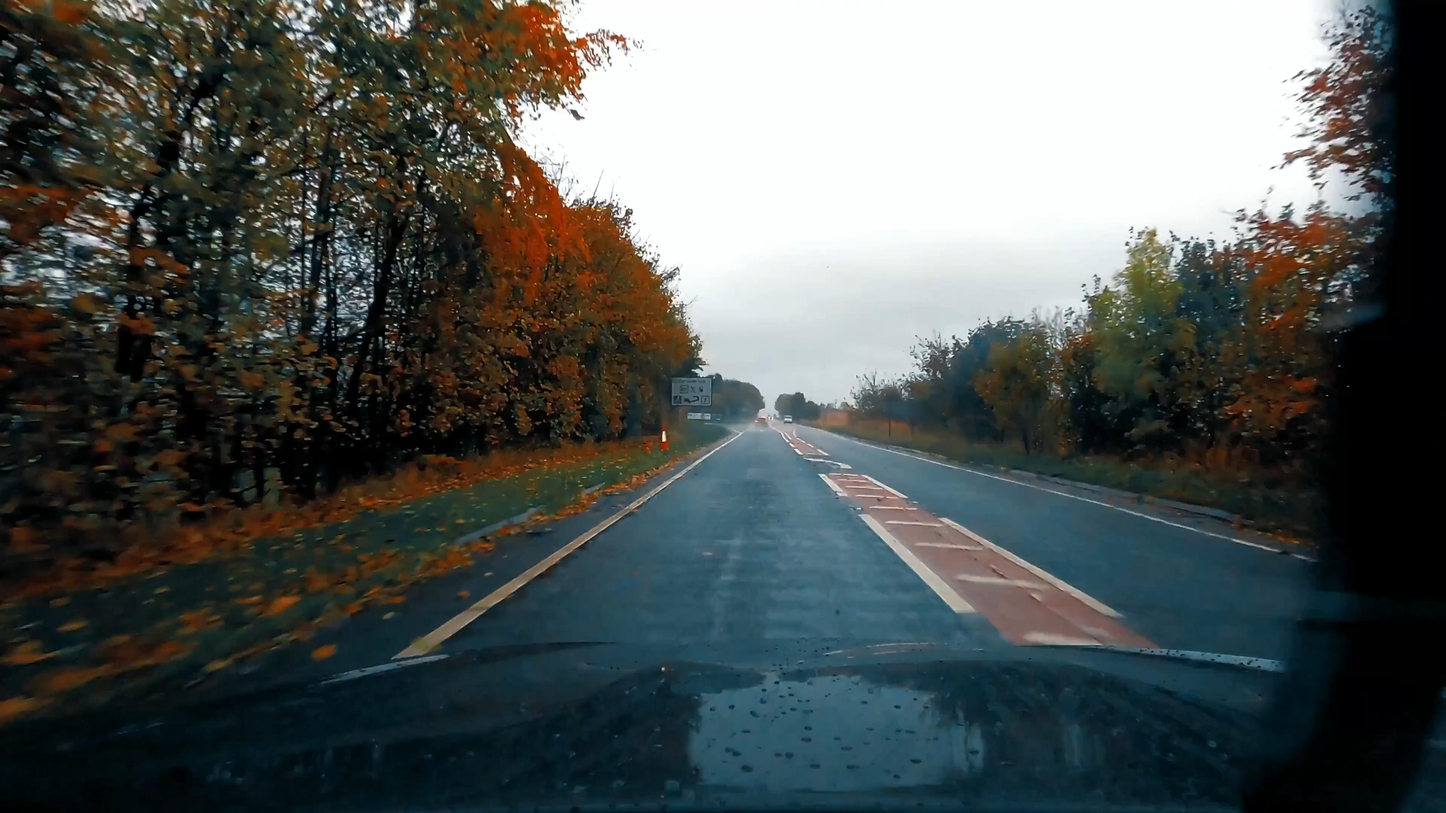wet: (390, 417, 1369, 663)
